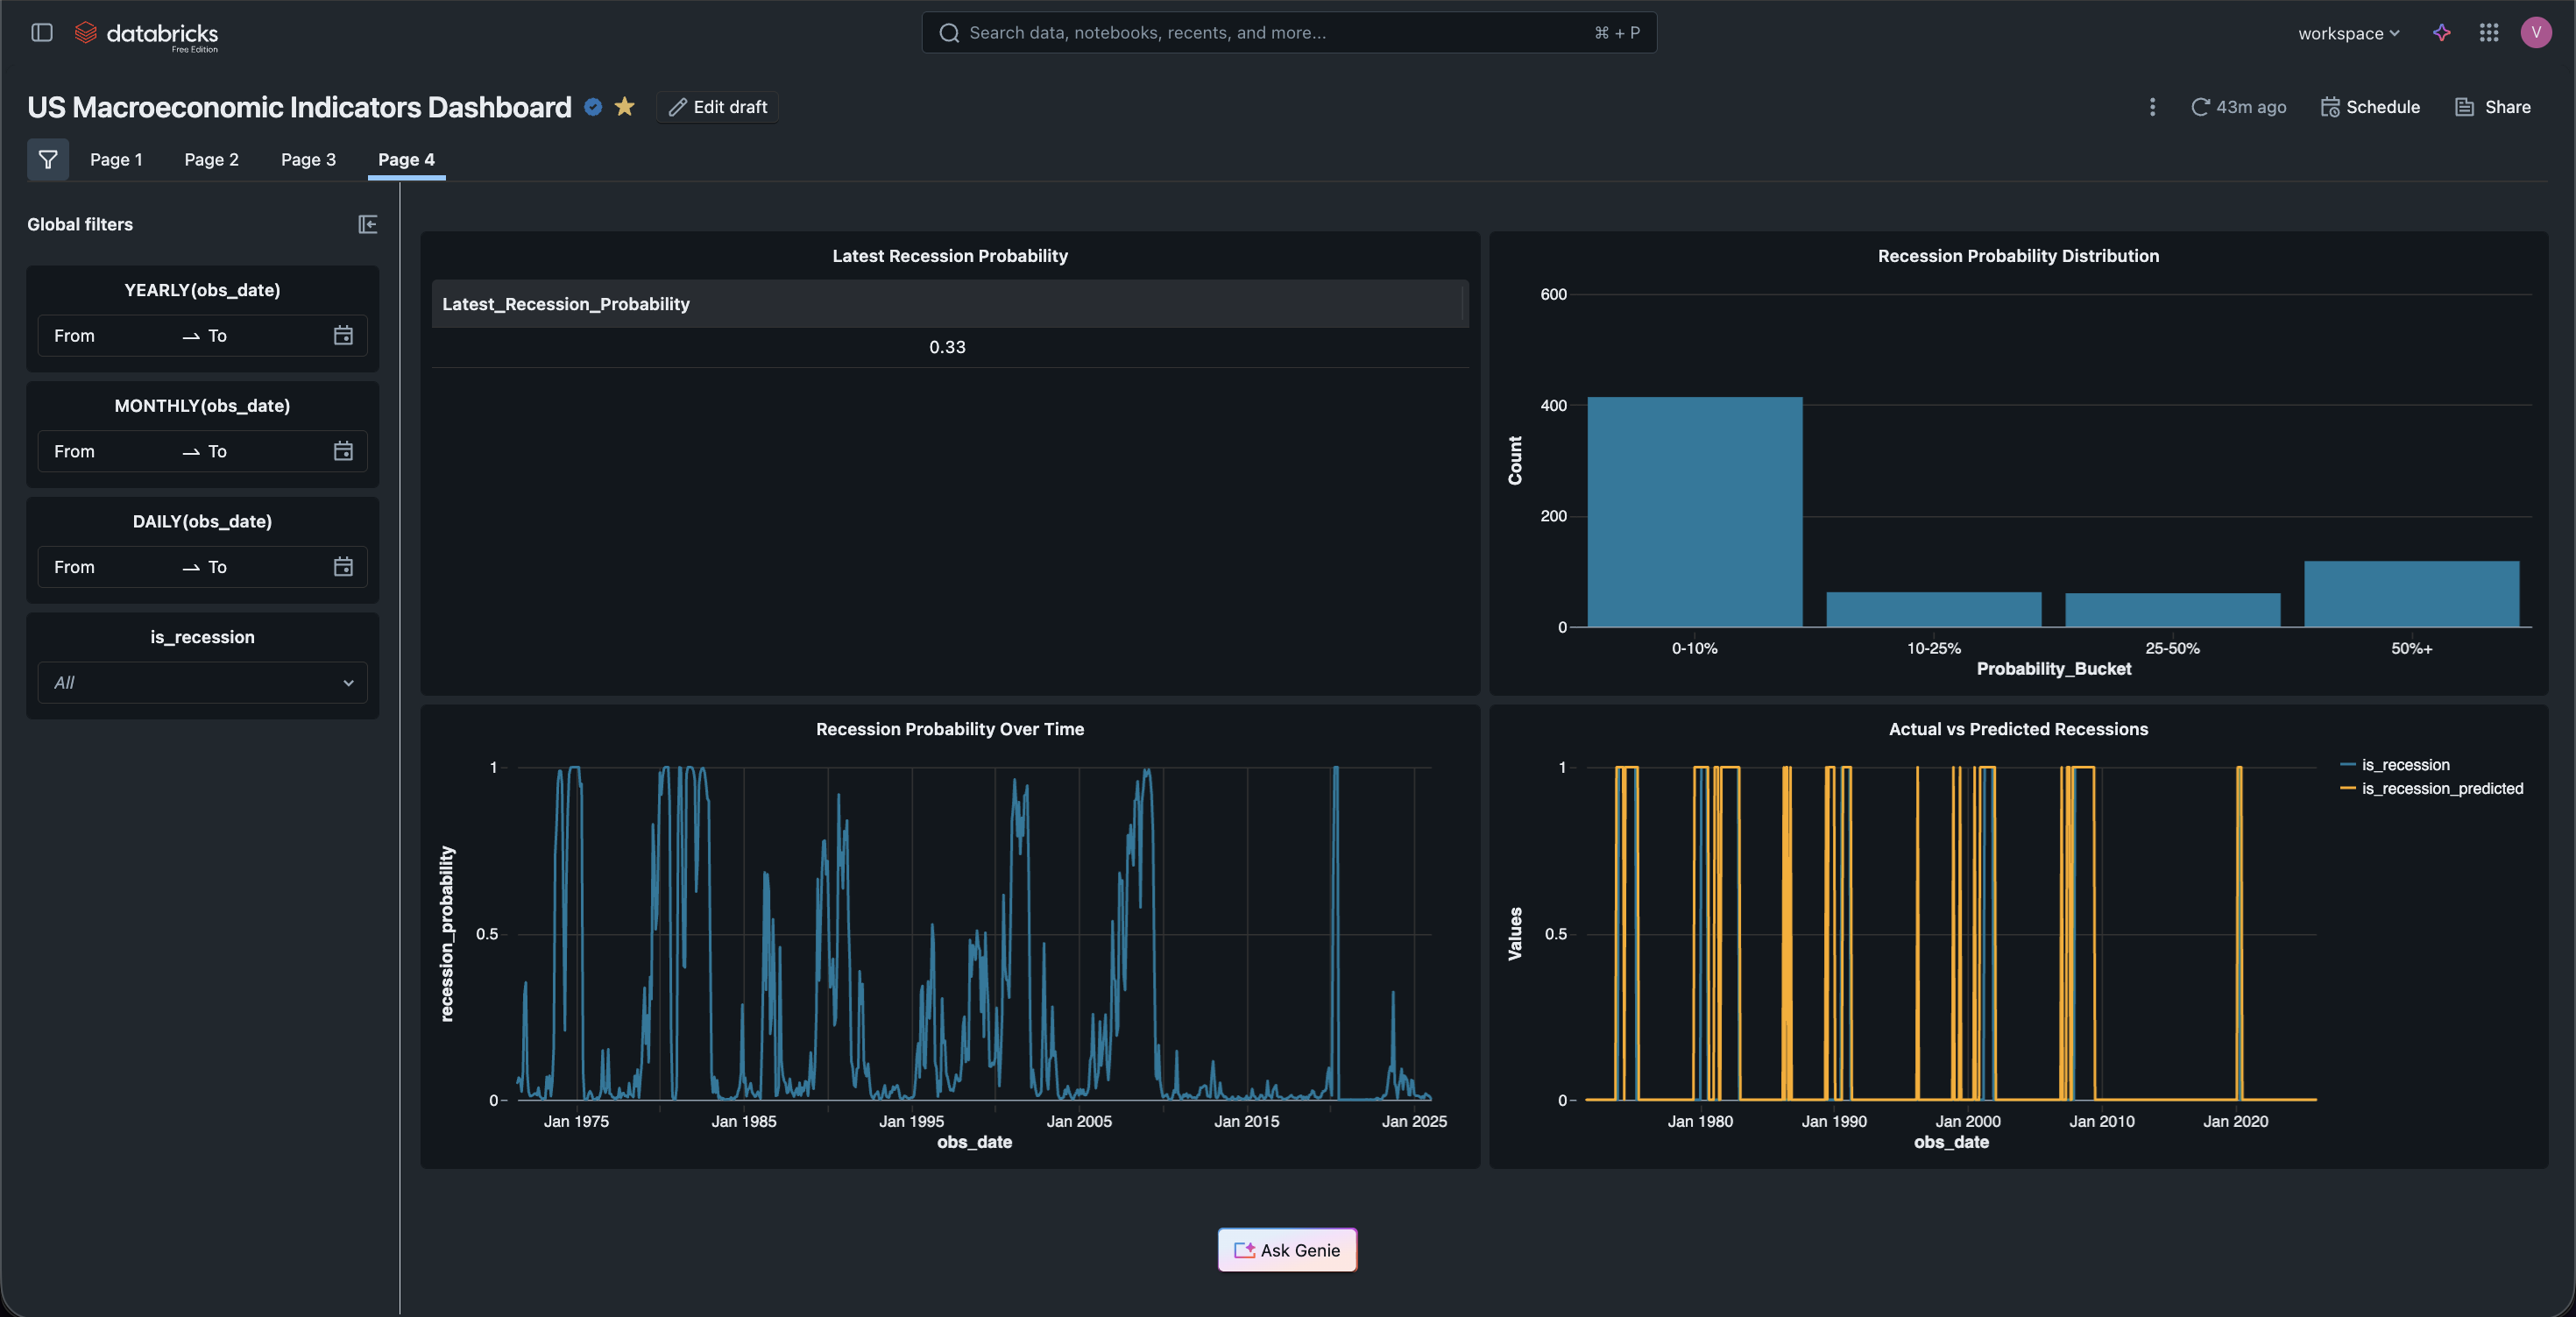

The dashboard page shown, as its layout file describes it:
{"tool":"powerbi","page":{"name":"Page 4","canvas":[1280,720],"ordinal":3},"visuals":[{"type":"lineChart","title":"Recession Probability Over Time","fields":{"Category":["recession_predictions.obs_date"],"Y":["Avg(recession_predictions.recession_probability)"]},"box":[639.4,359.7,640.6,359.7],"z":0},{"type":"lineChart","title":"Actual vs Predicted Recessions","fields":{"Category":["recession_predictions.obs_date"],"Y":["Avg(recession_predictions.is_recession)","Avg(recession_predictions.is_recession_predicted)"]},"box":[0,359.7,640.6,359.7],"z":1000},{"type":"cardVisual","fields":{"Data":["recession_predictions.Latest_Recession_Probability"]},"box":[0,0,639.4,359.7],"z":3000},{"type":"columnChart","title":"Recession Probability Distribution ","fields":{"Category":["recession_predictions.Probability_Bucket"],"Y":["CountNonNull(recession_predictions.Probability_Bucket)"]},"box":[639.4,0,640.6,359.7],"z":3001}]}

Visuals, with their boxes on the page's 1280x720 design canvas (x1, y1, x2, y2). These are canvas units, not pixel positions in the 2576x1317 screenshot, which may show the page scaled, cropped or inside an application window:
"Recession Probability Over Time" lineChart: region(639, 360, 1280, 719)
"Actual vs Predicted Recessions" lineChart: region(0, 360, 641, 719)
cardVisual - recession_predictions.Latest_Recession_Probability: region(0, 0, 639, 360)
"Recession Probability Distribution " columnChart: region(639, 0, 1280, 360)
